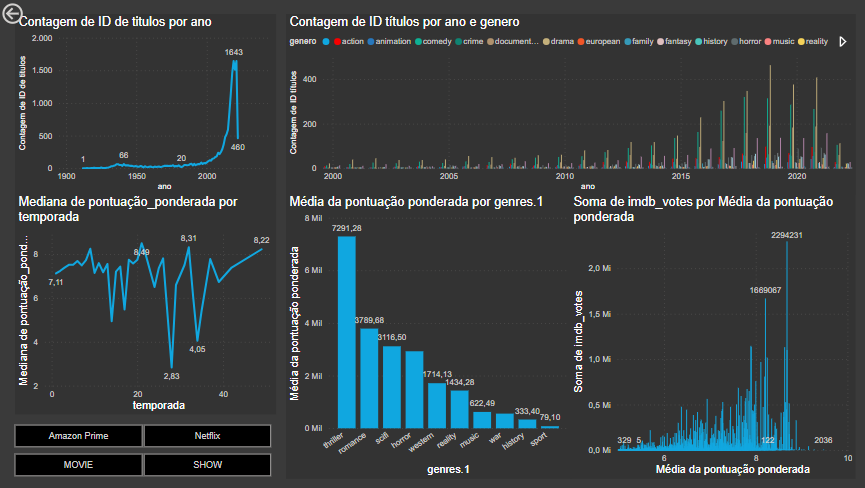

The dashboard page shown, as its layout file describes it:
{"tool":"powerbi","page":{"name":"Página 2","canvas":[1280,720],"ordinal":1},"visuals":[{"type":"lineChart","fields":{"Category":["amazon_netflix_limpo.release_year"],"Y":["CountNonNull(amazon_netflix_limpo.ID)"]},"box":[24,20,384,266],"z":0},{"type":"actionButton","box":[0,0,100,40],"z":1000},{"type":"clusteredColumnChart","fields":{"Category":["amazon_netflix_limpo.release_year"],"Y":["CountNonNull(amazon_netflix_limpo.ID)"],"Series":["amazon_netflix_limpo.genres.1"]},"box":[422,20,838,266],"z":2000},{"type":"lineChart","fields":{"Category":["amazon_netflix_limpo.seasons"],"Y":["Median(amazon_netflix_limpo.pontuação_ponderada)"]},"box":[24,286,384,324],"z":3000},{"type":"columnChart","fields":{"Category":["amazon_netflix_limpo.genres.1"],"Y":["Sum(amazon_netflix_limpo.pontuação_ponderada)"]},"box":[421.4,285.7,420,418.6],"z":4000},{"type":"slicer","fields":{"Values":["amazon_netflix_limpo.streaming"]},"box":[0,620,421.4,41.4],"z":5000},{"type":"slicer","fields":{"Values":["amazon_netflix_limpo.type"]},"box":[0,662.9,421.4,41.4],"z":6000},{"type":"columnChart","fields":{"Y":["Sum(amazon_netflix_limpo.imdb_votes)"],"Category":["amazon_netflix_limpo.pontuação_ponderada"]},"box":[840,285.7,420,418.6],"z":7000}]}

Visuals, with their boxes in screenshot pixels (x1, y1, x2, y2), scaled from the page's 1280x720 canvas onto the 865x488 screenshot:
lineChart - amazon_netflix_limpo.release_year x CountNonNull(amazon_netflix_limpo.ID): {"left": 16, "top": 14, "right": 276, "bottom": 194}
actionButton: {"left": 0, "top": 0, "right": 68, "bottom": 27}
clusteredColumnChart - amazon_netflix_limpo.release_year x CountNonNull(amazon_netflix_limpo.ID): {"left": 285, "top": 14, "right": 851, "bottom": 194}
lineChart - amazon_netflix_limpo.seasons x Median(amazon_netflix_limpo.pontuação_ponderada): {"left": 16, "top": 194, "right": 276, "bottom": 413}
columnChart - amazon_netflix_limpo.genres.1 x Sum(amazon_netflix_limpo.pontuação_ponderada): {"left": 285, "top": 194, "right": 569, "bottom": 477}
slicer - amazon_netflix_limpo.streaming: {"left": 0, "top": 420, "right": 285, "bottom": 448}
slicer - amazon_netflix_limpo.type: {"left": 0, "top": 449, "right": 285, "bottom": 477}
columnChart - Sum(amazon_netflix_limpo.imdb_votes) x amazon_netflix_limpo.pontuação_ponderada: {"left": 568, "top": 194, "right": 851, "bottom": 477}
